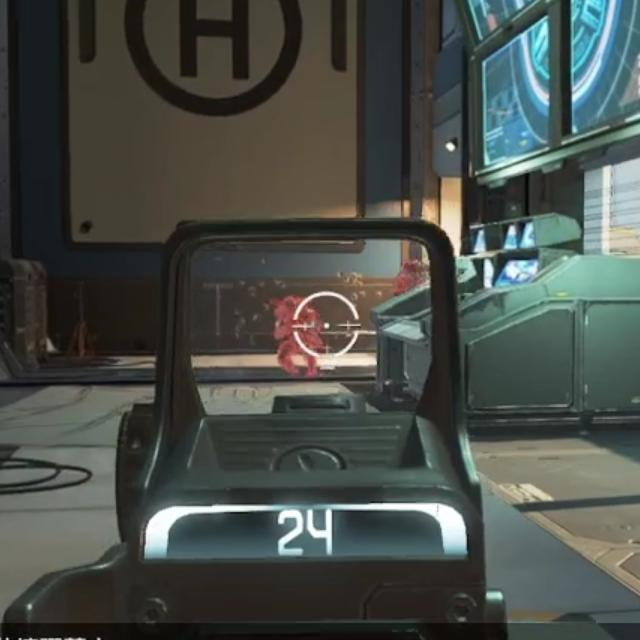avatar: (271, 293, 324, 374)
